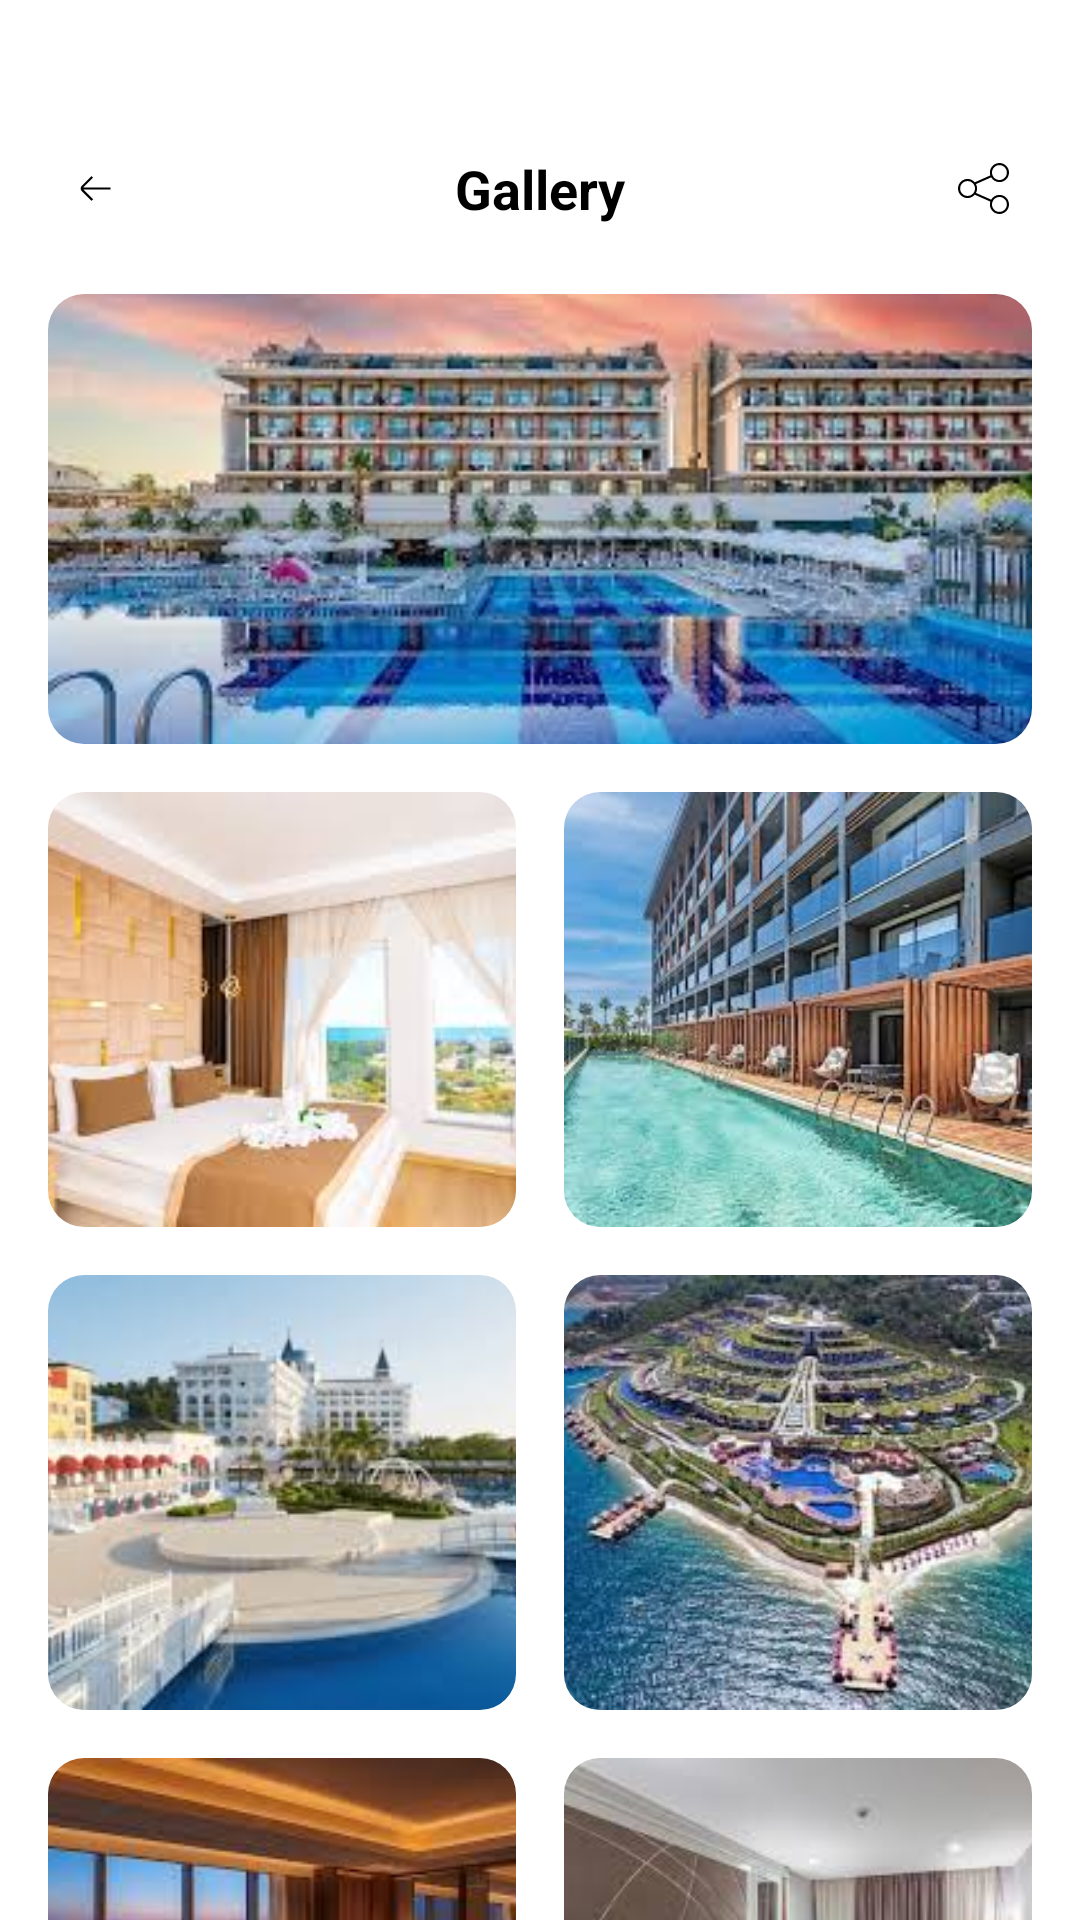

Named icons in this screenshot (1080*1920) and their bounding boxes, (x1, y1, x2, y2):
arrow left: (80, 176, 111, 201)
share: (958, 163, 1009, 214)
